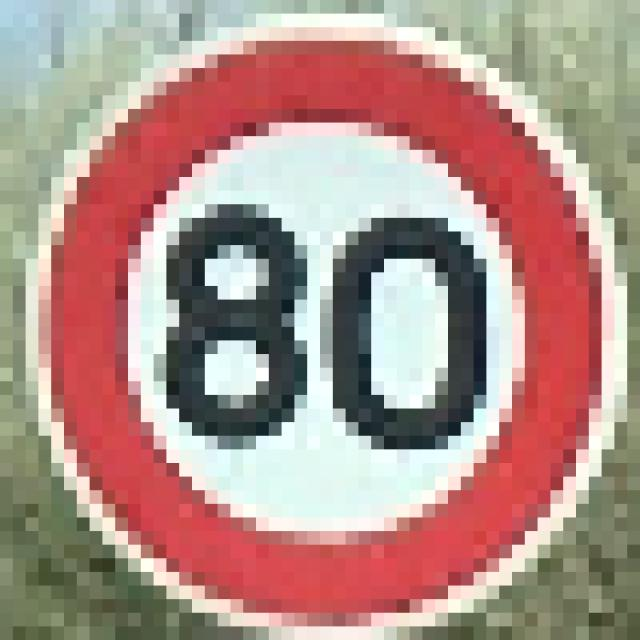speed_80: (0, 0, 627, 626)
